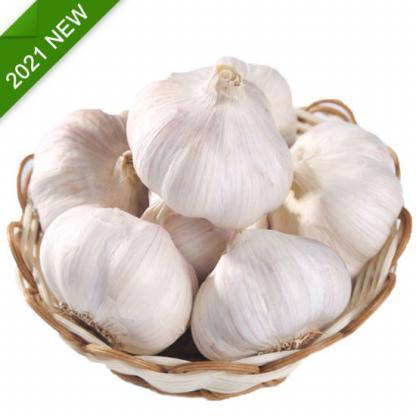garlic: (127, 64, 294, 226), (42, 205, 195, 351), (191, 226, 351, 359), (270, 122, 401, 270), (30, 110, 146, 242)
